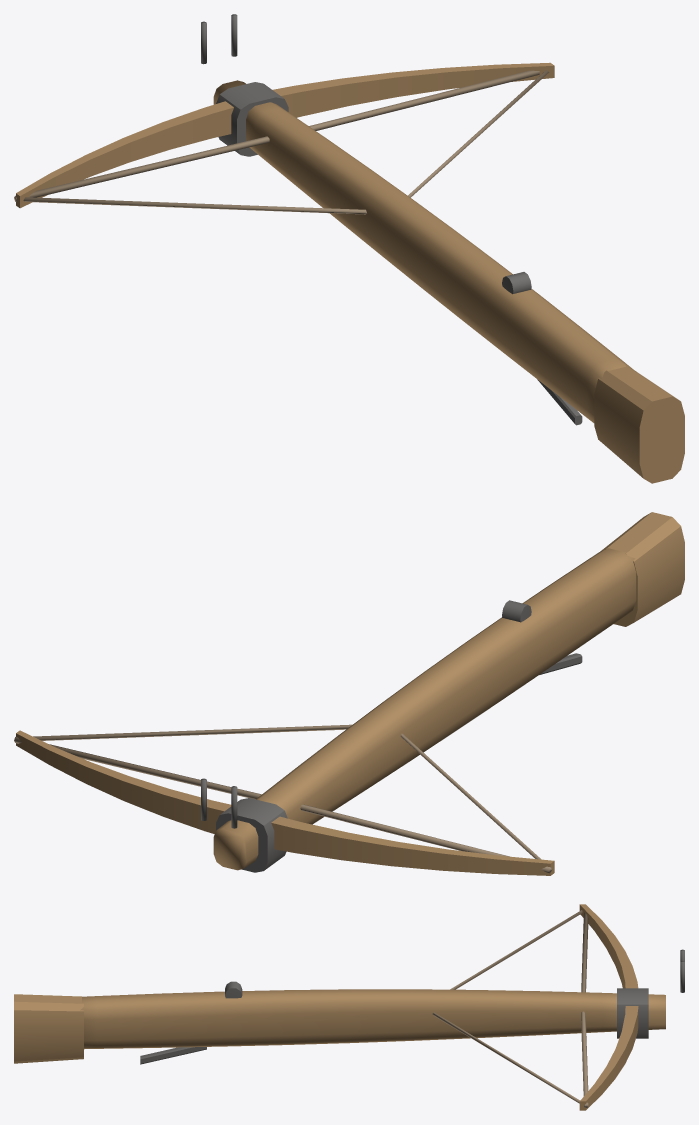
File: stonebow.glb
The picture shows the model from 3 angles, top to bottom: view 1: azimuth 30°, elevation 25°; view 2: azimuth 150°, elevation 25°; view 3: azimuth 270°, elevation 25°; orthographic projection. The views are drawn at different scales.
Parts seen in each view (by area): view 1: stonebow; view 2: stonebow; view 3: stonebow.
Part boxes in pixels (box(x1,y1,x2,y2)): stonebow: box(14, 14, 684, 483); stonebow: box(14, 512, 684, 875); stonebow: box(14, 904, 684, 1110).
Bounding box in the file's own units: 1.41 × 0.3565 × 2.02.
